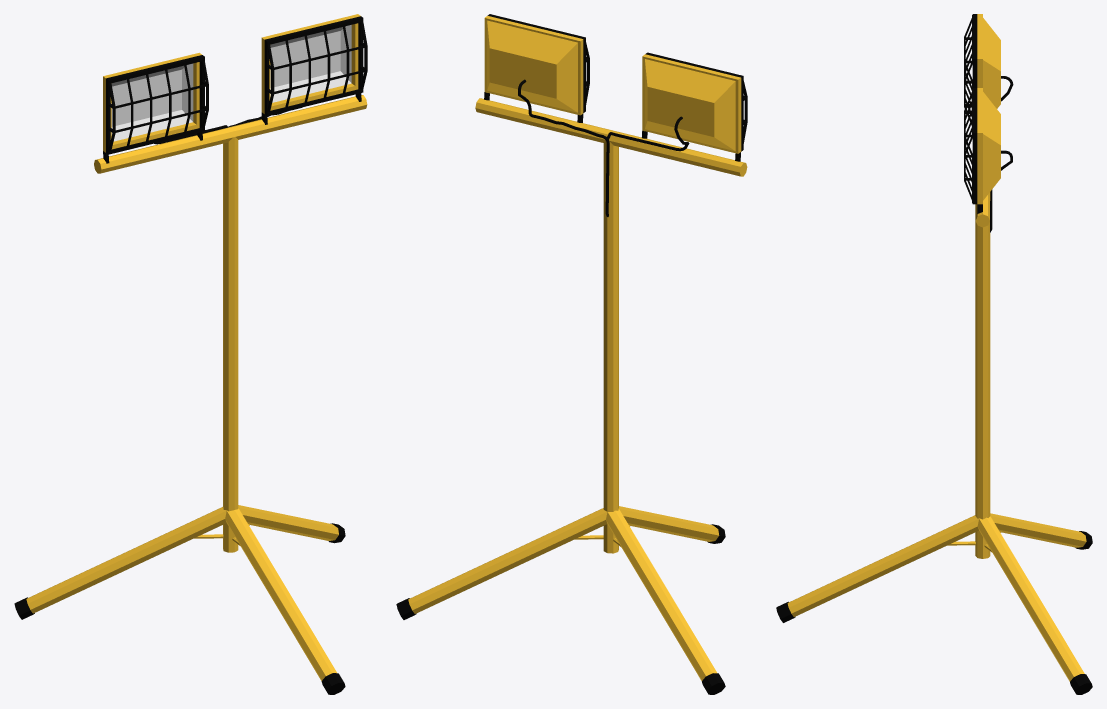
File: floodLight.fbx
3 renders of one model, left to right at view 1: azimuth 30°, elevation 25°; view 2: azimuth 150°, elevation 25°; view 3: azimuth 270°, elevation 25°, orthographic. The views are drawn at different scales.
Parts seen in each view (by area): view 1: Floodlight; view 2: Floodlight; view 3: Floodlight.
Boxes of the visible parts, <box> form: Floodlight: <box>14,14,367,694</box>; Floodlight: <box>396,14,747,694</box>; Floodlight: <box>776,14,1092,694</box>.
Bounding box in the file's own units: 105 × 175 × 91.27.
